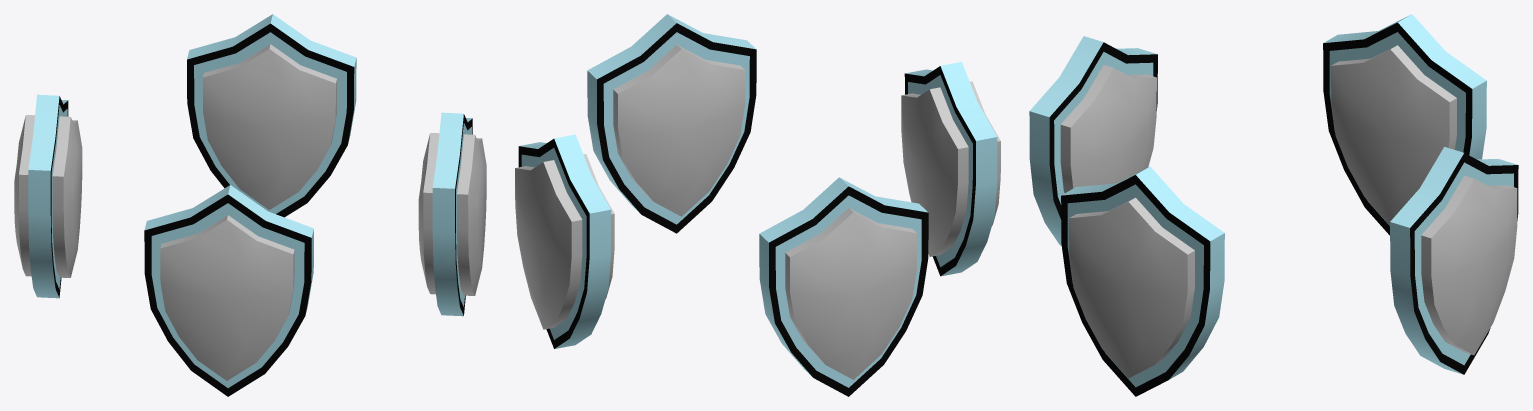
File: SHELD_SUROUNDING.fbx
The picture shows the model from 3 angles, left to right: view 1: azimuth 30°, elevation 25°; view 2: azimuth 150°, elevation 25°; view 3: azimuth 270°, elevation 25°; orthographic projection. The views are drawn at different scales.
Visible parts, largest first — view 1: Icon_Sheild9; view 2: Icon_Sheild9; view 3: Icon_Sheild9.
Boxes of the visible parts, x1,y1,x2,y2 form: Icon_Sheild9: [14, 14, 486, 396]; Icon_Sheild9: [515, 14, 1000, 396]; Icon_Sheild9: [1029, 14, 1518, 396].
Bounding box in the file's own units: 19.75 × 9.9 × 19.75.
